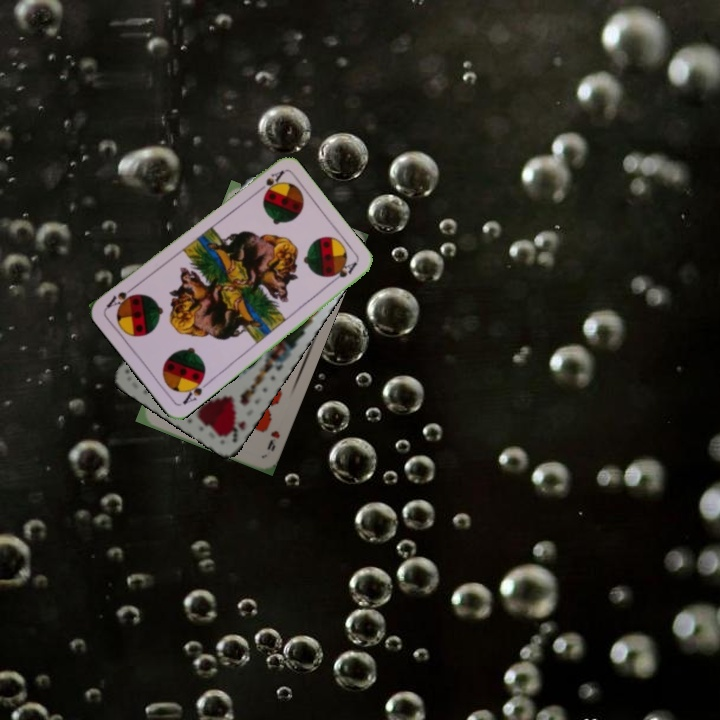H9: (263, 426, 282, 454)
HK: (220, 413, 248, 445)
SA: (179, 372, 213, 407), (252, 166, 287, 197)
